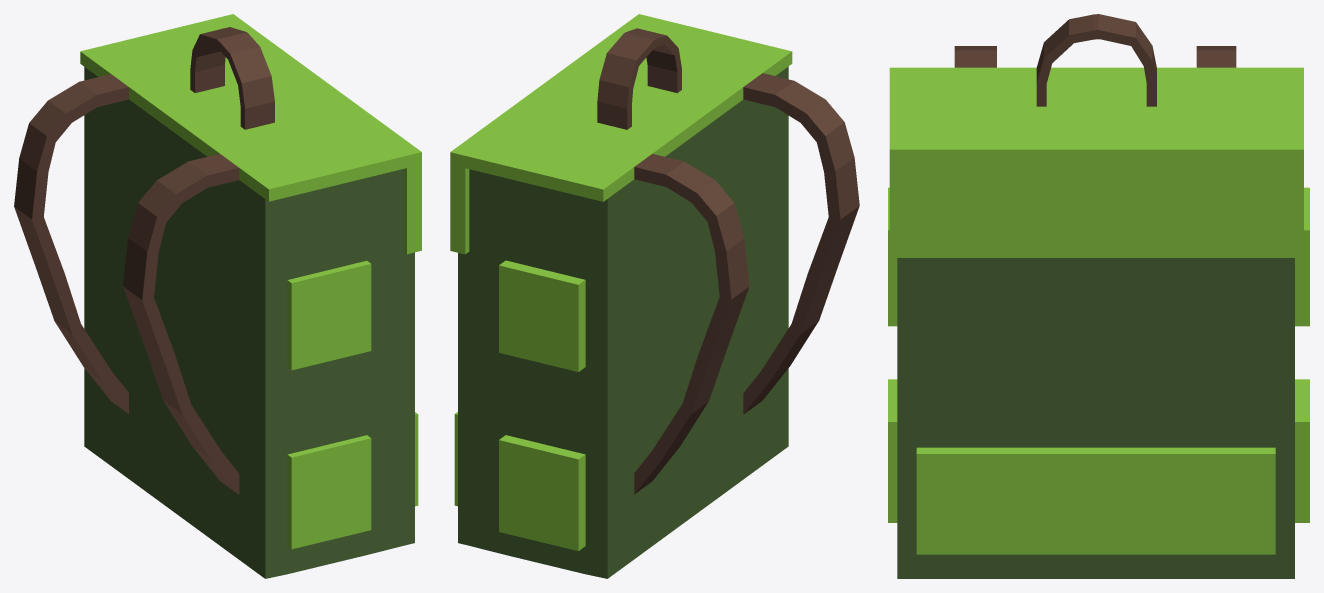
File: Ransel.fbx
The picture shows the model from 3 angles, left to right: view 1: azimuth 30°, elevation 25°; view 2: azimuth 150°, elevation 25°; view 3: azimuth 270°, elevation 25°; orthographic projection. The views are drawn at different scales.
Parts seen in each view (by area): view 1: Ransel; view 2: Ransel; view 3: Ransel.
Boxes of the visible parts, x1=… form: Ransel: x1=14, y1=14, x2=421, y2=578; Ransel: x1=450, y1=14, x2=859, y2=578; Ransel: x1=888, y1=14, x2=1309, y2=578.
Bounding box in the file's own units: 94.77 × 162 × 122.
